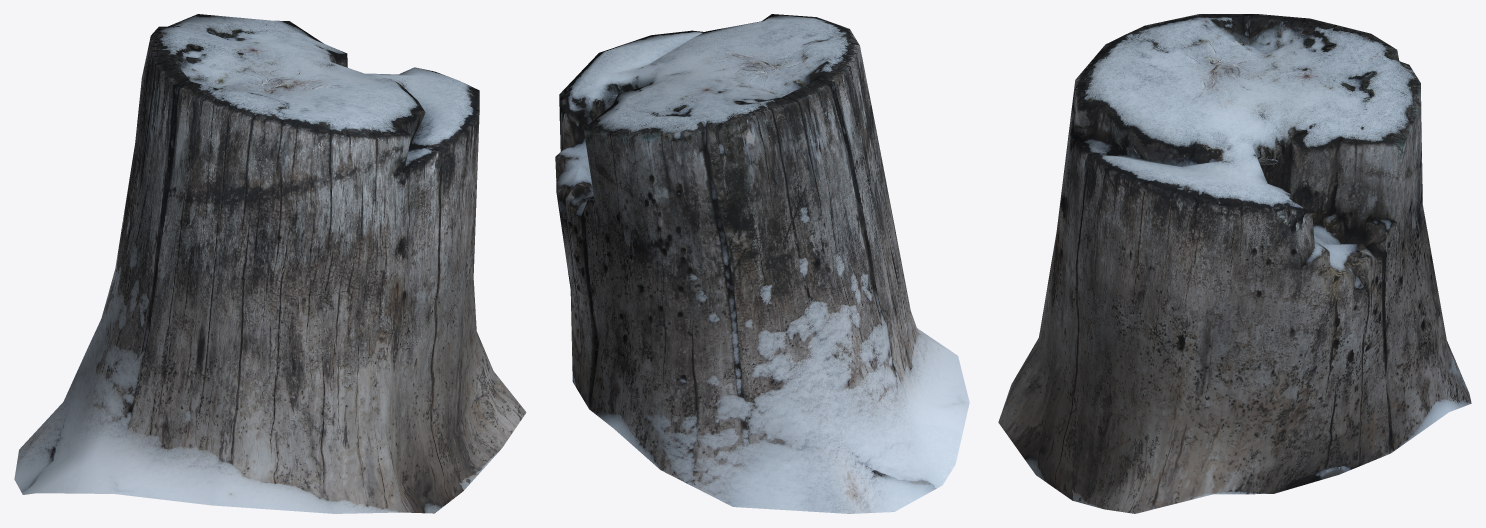
File: Forest_stump_6.FBX
3 views of the same model, side by side, from view 1: azimuth 30°, elevation 25°; view 2: azimuth 150°, elevation 25°; view 3: azimuth 270°, elevation 25° (orthographic). The views are drawn at different scales.
Visible parts, largest first — view 1: Forest_stump_6; view 2: Forest_stump_6; view 3: Forest_stump_6.
Part boxes in pixels (x1,y1,x2,y2): Forest_stump_6: [14, 14, 526, 513]; Forest_stump_6: [555, 14, 969, 513]; Forest_stump_6: [998, 14, 1471, 513].
Bounding box in the file's own units: 1.12 × 1 × 1.06.
Materials: 1 (1 with a texture image).
